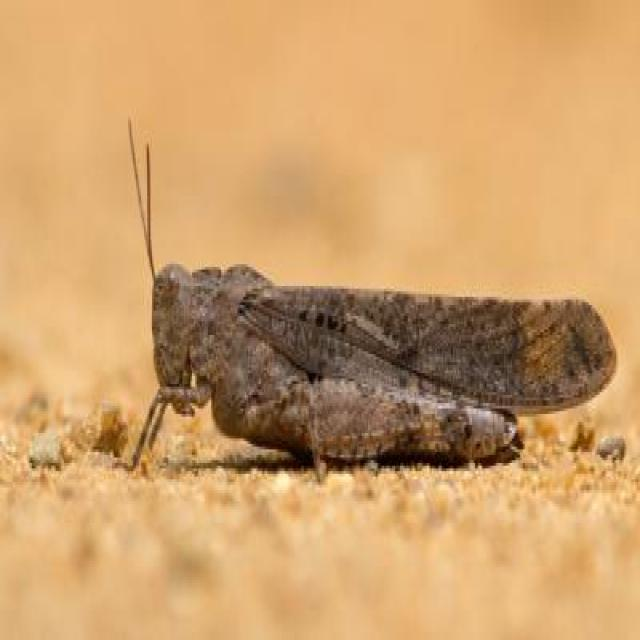antennae: (130, 123, 154, 275), (144, 142, 155, 282)
body: (155, 262, 519, 454)
insect: (125, 114, 618, 488)
legs: (127, 382, 218, 474), (247, 388, 326, 473)
mouthpart: (160, 371, 193, 422)
wings: (242, 288, 615, 407)
